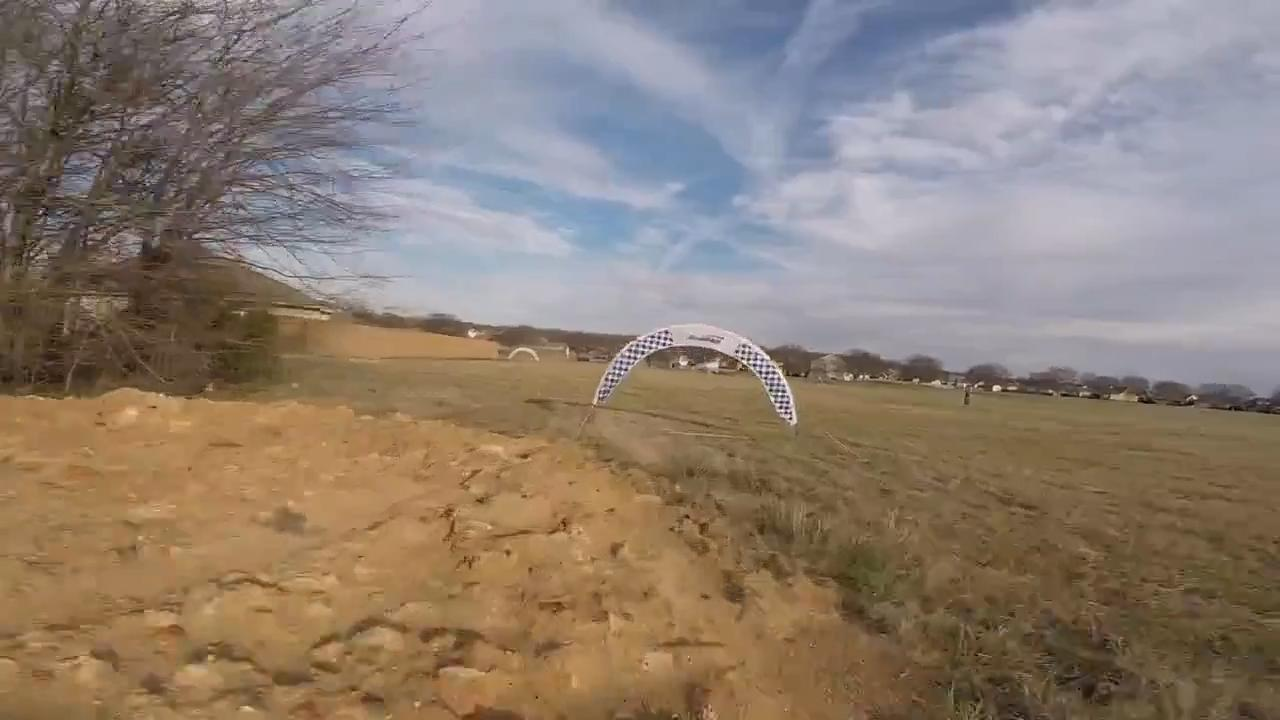gate: (593, 323, 803, 429)
